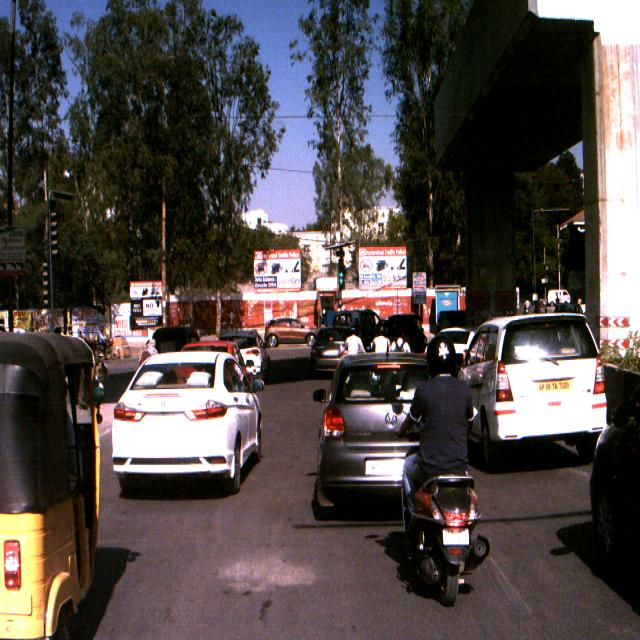auto ahead at: (0, 334, 108, 640)
car ahead at: (111, 349, 262, 501), (473, 314, 608, 444)
motorcycle ahead at: (386, 469, 498, 602)
